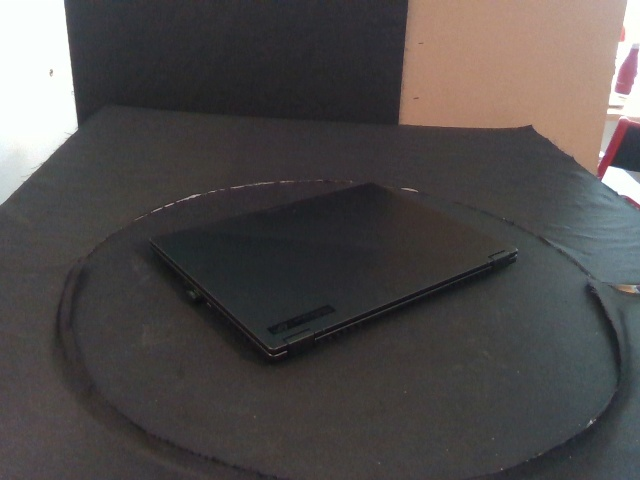laptop: (149, 182, 520, 363)
